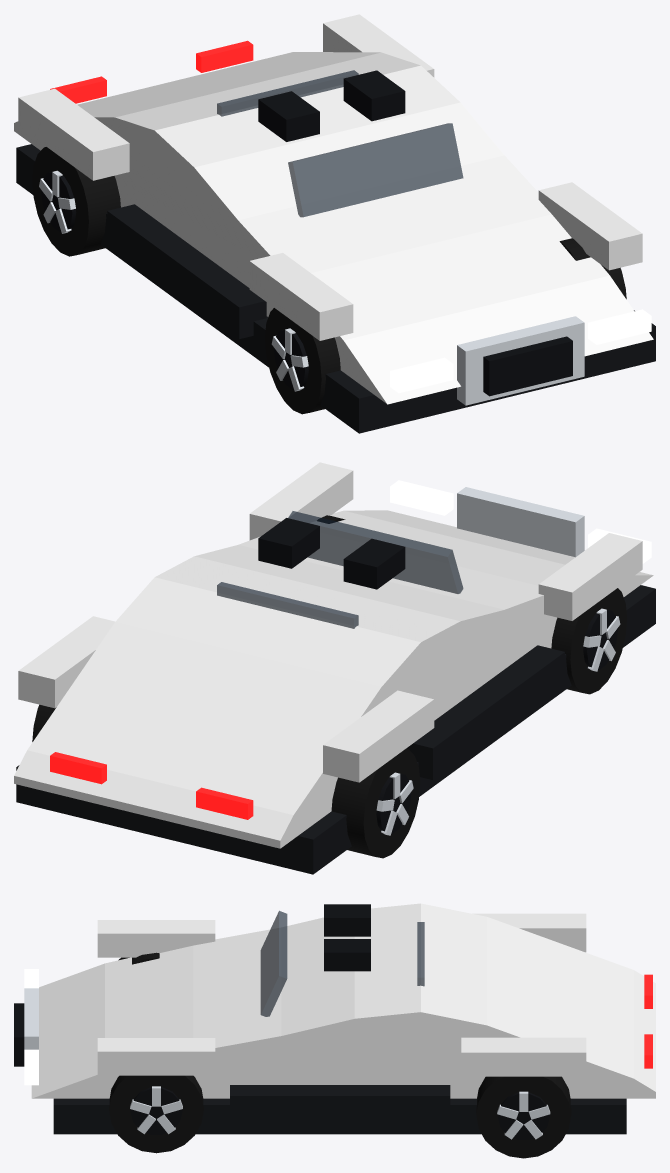
File: baguetti-hellhound.glb
3 views of the same model, one above another, from view 1: azimuth 30°, elevation 25°; view 2: azimuth 150°, elevation 25°; view 3: azimuth 270°, elevation 25° (orthographic). The views are drawn at different scales.
Parts seen in each view (by area): view 1: chassis, glass, wheel-back-left, wheel-front-left, wheel-front-right; view 2: chassis, wheel-back-left, wheel-front-left, glass; view 3: chassis, wheel-back-right, wheel-front-right, glass.
Part boxes in pixels (x1=…): chassis: x1=14, y1=14, x2=655, y2=433; glass: x1=288, y1=123, x2=463, y2=217; wheel-back-left: x1=32, y1=147, x2=120, y2=256; wheel-front-left: x1=265, y1=308, x2=340, y2=414; wheel-front-right: x1=559, y1=238, x2=626, y2=299; chassis: x1=14, y1=462, x2=655, y2=874; wheel-back-left: x1=331, y1=748, x2=420, y2=858; wheel-front-left: x1=551, y1=588, x2=627, y2=694; glass: x1=288, y1=511, x2=463, y2=593; chassis: x1=14, y1=903, x2=655, y2=1134; wheel-back-right: x1=476, y1=1076, x2=571, y2=1158; wheel-front-right: x1=109, y1=1075, x2=203, y2=1153; glass: x1=260, y1=911, x2=287, y2=1016.
Size of the model in its own units: 2.25 by 1.22 by 4.37.
